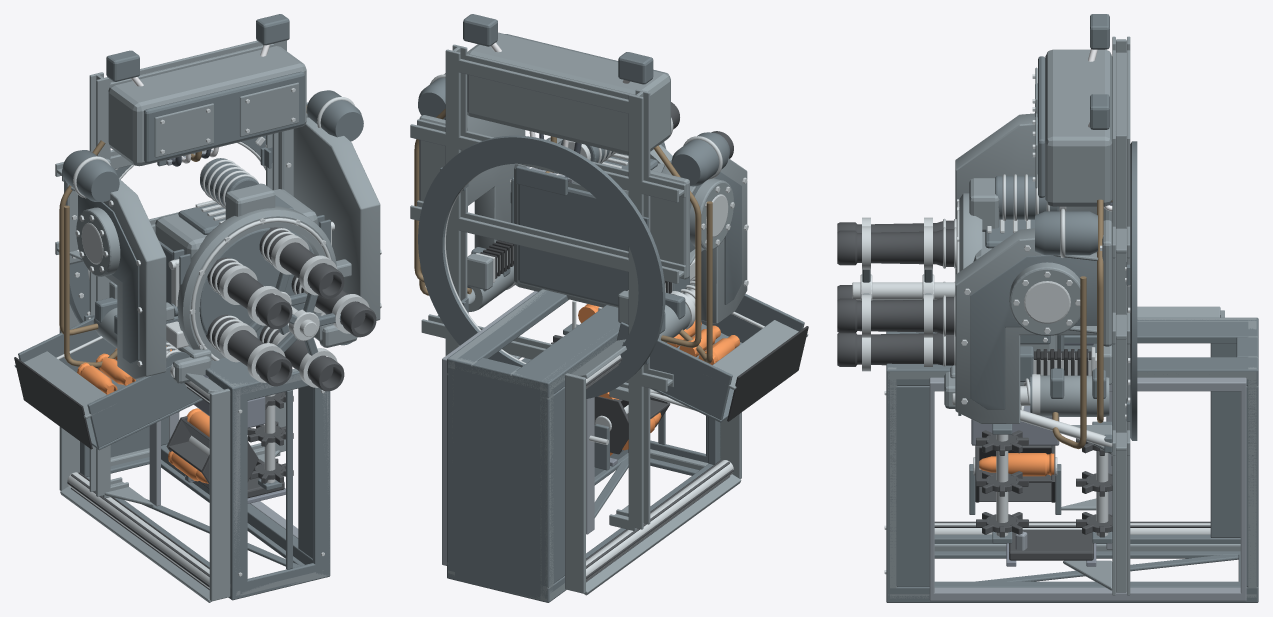
File: weapon-gatling.glb
The picture shows the model from 3 angles, left to right: view 1: azimuth 30°, elevation 25°; view 2: azimuth 150°, elevation 25°; view 3: azimuth 270°, elevation 25°; orthographic projection. The views are drawn at different scales.
Parts seen in each view (by area): view 1: feed_panels, gun_cradle_cheek_+1, link_exit_flare, gun_house, gun_ejection_trough, gun_mount_girders, gun_cradle_cheek_-1, gun_front_bearing, gun_house_hood, barrel_hub, gun_cradle_cheek_field_-1, feed_frame (+43 smaller); view 2: feed_panels, gun_mount_girders, gun_mount_flange, gun_house, link_exit_flare, gun_receiver_rear_cover, gun_ejection_trough, feed_frame, gun_cradle_cheek_+1, gun_ejection_flap, gun_hydraulic_line_-1, gun_cradle_cheek_-1 (+23 smaller); view 3: feed_panels, gun_mount_girders, gun_house, feed_mouth_lip, feed_frame, gun_cradle_cheek_+1, gun_cradle_cheek_field_+1, gun_cradle_cheek_-1, barrel_0, barrel_1, barrel_4, gun_hydraulic_line_+1 (+31 smaller).
Boxes of the visible parts, x1,y1,x2,y2 form: feed_panels: [80, 357, 330, 600]; gun_cradle_cheek_+1: [293, 117, 380, 320]; link_exit_flare: [59, 304, 230, 602]; gun_house: [108, 46, 306, 166]; gun_ejection_trough: [18, 316, 202, 450]; gun_mount_girders: [55, 40, 308, 498]; gun_cradle_cheek_-1: [104, 178, 166, 379]; gun_front_bearing: [177, 206, 336, 360]; gun_house_hood: [144, 71, 304, 163]; barrel_hub: [199, 227, 313, 339]; gun_cradle_cheek_field_-1: [78, 195, 139, 363]; feed_frame: [110, 368, 329, 595]; feed_panels: [447, 289, 720, 602]; gun_mount_girders: [410, 44, 685, 531]; gun_mount_flange: [418, 135, 665, 398]; gun_house: [467, 32, 670, 154]; link_exit_flare: [565, 293, 741, 595]; gun_receiver_rear_cover: [518, 184, 628, 306]; gun_ejection_trough: [616, 293, 804, 422]; feed_frame: [447, 289, 720, 601]; gun_cradle_cheek_+1: [467, 115, 525, 248]; gun_ejection_flap: [727, 326, 808, 421]; gun_hydraulic_line_-1: [653, 145, 712, 363]; gun_cradle_cheek_-1: [661, 158, 747, 323]; feed_panels: [886, 317, 1258, 602]; gun_mount_girders: [1112, 36, 1130, 595]; gun_house: [1045, 49, 1112, 206]; feed_mouth_lip: [929, 377, 1246, 601]; feed_frame: [888, 318, 1258, 598]; gun_cradle_cheek_+1: [955, 228, 1096, 423]; gun_cradle_cheek_field_+1: [970, 255, 1096, 409]; gun_cradle_cheek_-1: [955, 113, 1096, 274]; barrel_0: [837, 297, 953, 334]; barrel_1: [837, 229, 953, 266]; barrel_4: [837, 333, 953, 366]; gun_hydraulic_line_+1: [1052, 199, 1103, 449].
Size of the model in its own units: 4.07 by 5.8 by 4.21.
